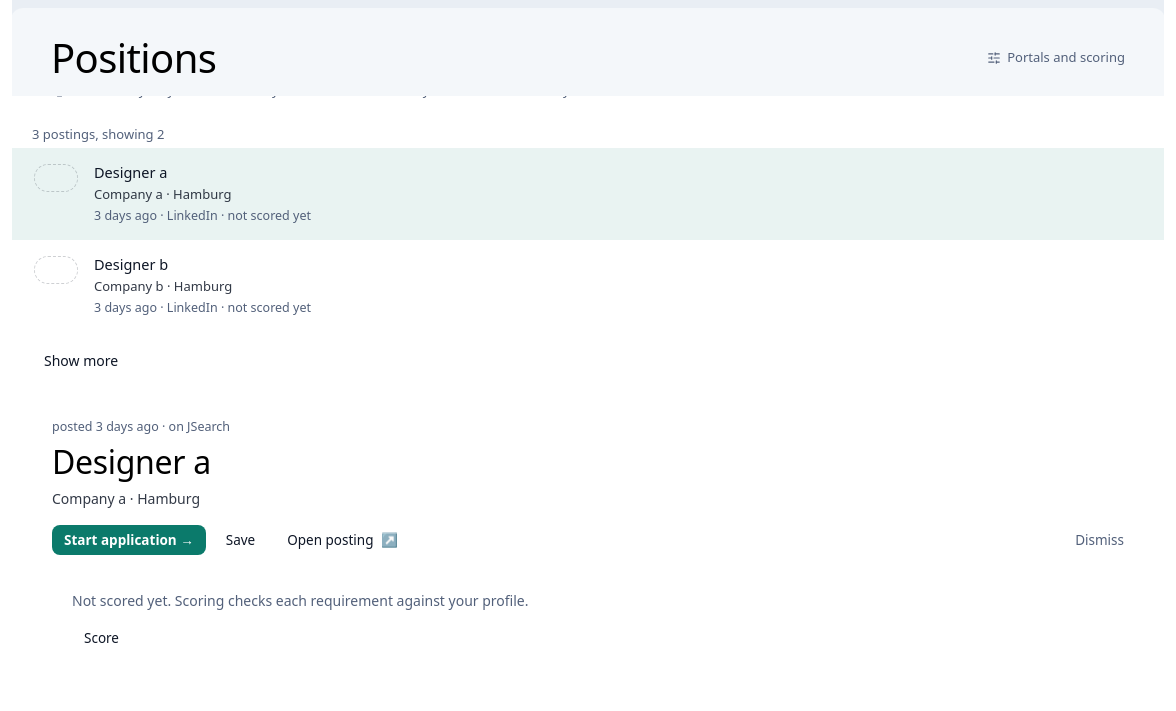
the positions library (E22-5) › loads the library's next page through the same filters
(page scrolled)
Expected: the text "3 postings, showing 2" is shown, top-left (32, 125), bottom-right (164, 143)
Click the button "Show more": (81, 361) top-left (32, 344), bottom-right (130, 378)
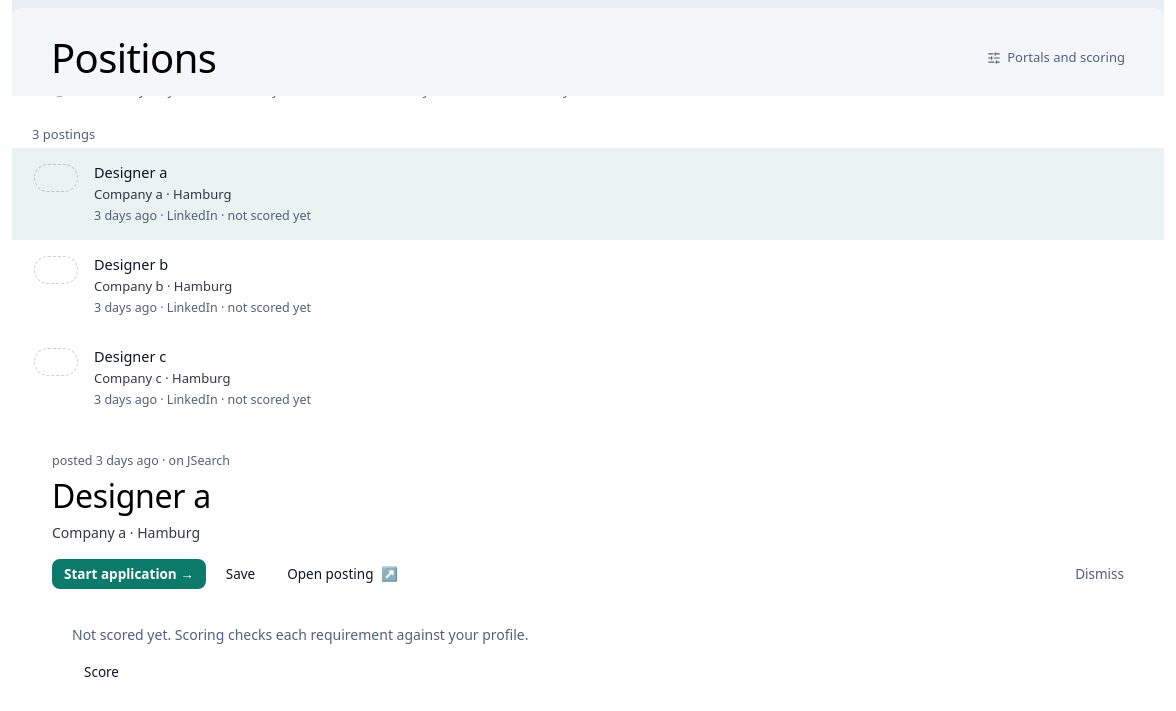
Expected: the button "Designer c" is shown, top-left (12, 332), bottom-right (1164, 424)
Expected: the button "Show more" is gone
